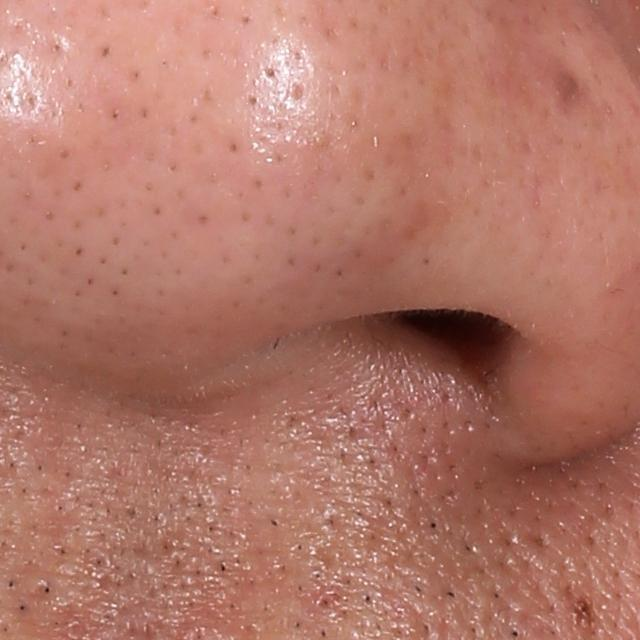nevus: (568, 593, 599, 634)
